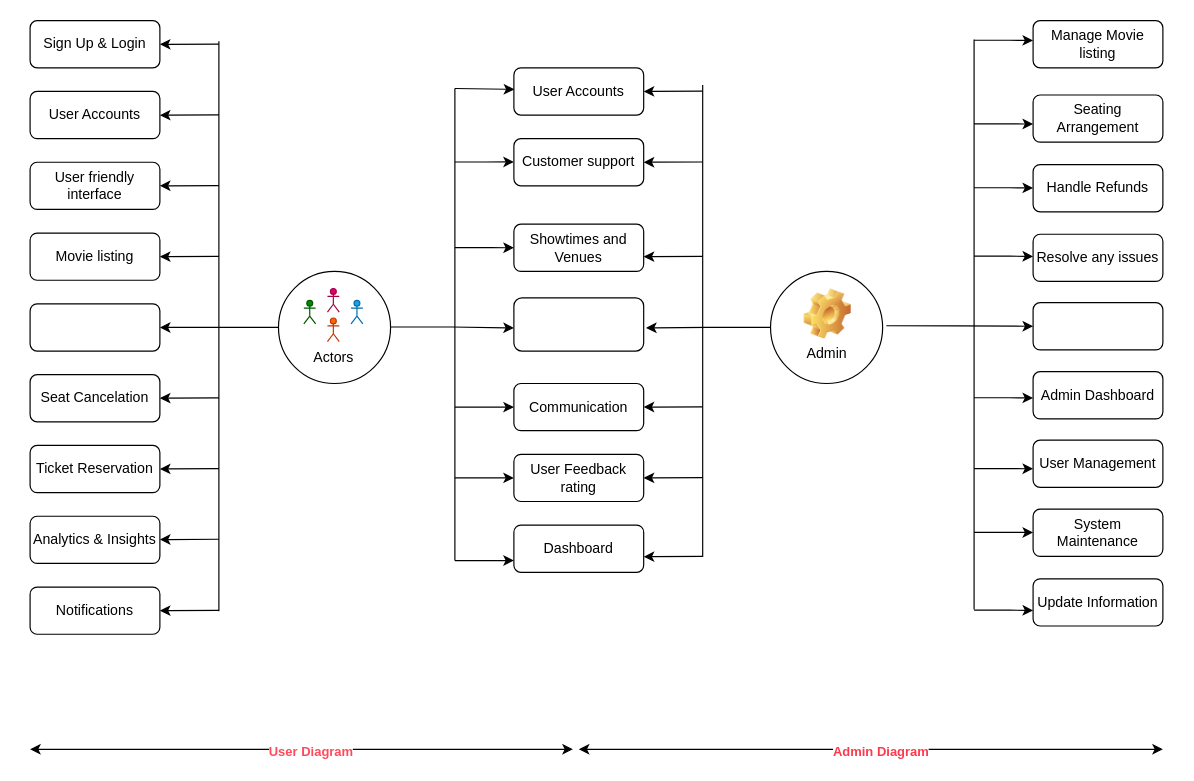
This 1194x781 diagram has some shape labels left out. The box of each missing label's shape, as (x1, y1, x2, y2) in pixels:
Bookings Monitoring: (1032, 301, 1163, 350)
Online Payments: (513, 297, 644, 351)
Seat Selection: (29, 303, 160, 351)
